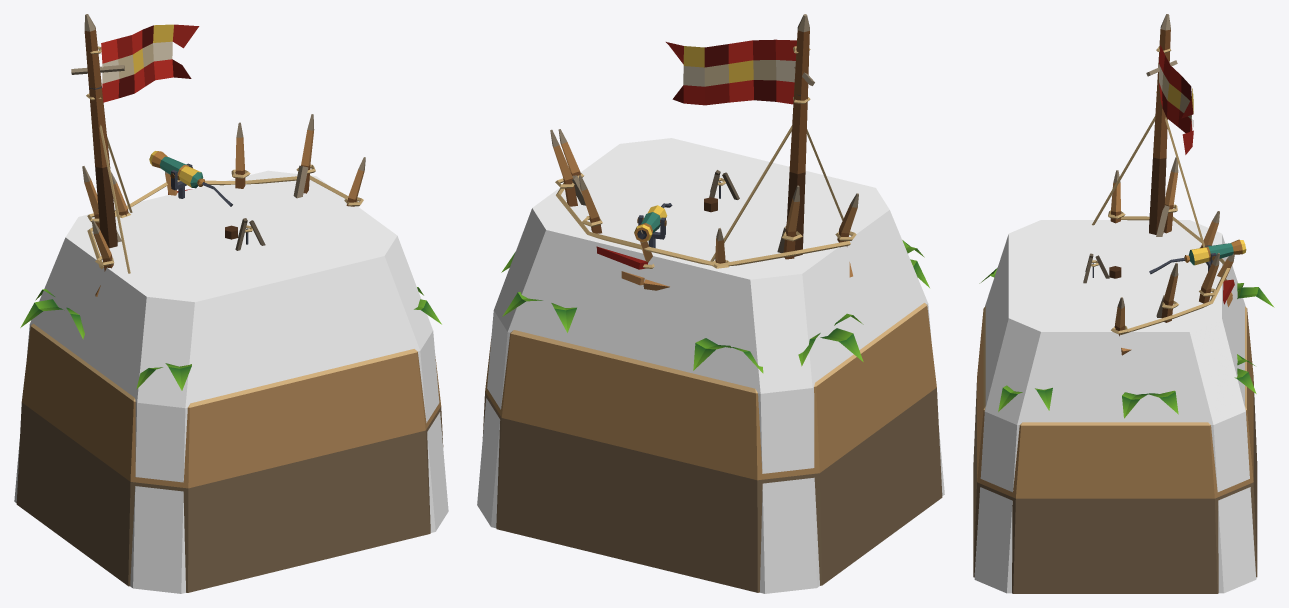
Rendered from coastal_shipwreck_barricade_camp.glb.
3 renders of one model, left to right at view 1: azimuth 30°, elevation 25°; view 2: azimuth 150°, elevation 25°; view 3: azimuth 270°, elevation 25°, orthographic. The views are drawn at different scales.
Visible parts, largest first — view 1: coastal_shipwreck_barricade_camp, col_barricade_base; view 2: coastal_shipwreck_barricade_camp, col_barricade_base; view 3: col_barricade_base, coastal_shipwreck_barricade_camp.
Boxes of the visible parts, <box> form: coastal_shipwreck_barricade_camp: <box>16,14,443,592</box>; col_barricade_base: <box>14,170,448,593</box>; coastal_shipwreck_barricade_camp: <box>482,14,942,592</box>; col_barricade_base: <box>477,138,944,593</box>; col_barricade_base: <box>974,220,1256,593</box>; coastal_shipwreck_barricade_camp: <box>973,14,1274,593</box>.
Size of the model in its own units: 5.61 by 7.81 by 4.67.
